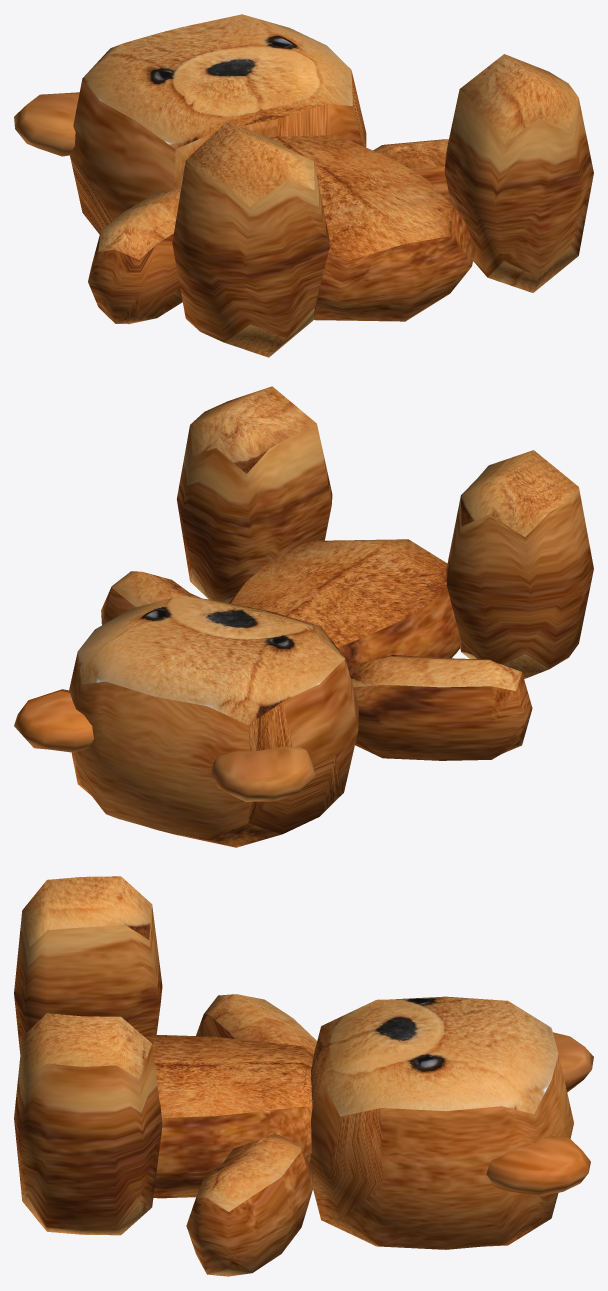
The model's file is teddybear.fbx.
3 views of the same model, one above another, from view 1: azimuth 30°, elevation 25°; view 2: azimuth 150°, elevation 25°; view 3: azimuth 270°, elevation 25° (orthographic). The views are drawn at different scales.
Visible parts, largest first — view 1: pCube21; view 2: pCube21; view 3: pCube21.
Part boxes in pixels (left/top/right/bottom): pCube21: left=14, top=14, right=593, bottom=357; pCube21: left=14, top=386, right=593, bottom=847; pCube21: left=14, top=876, right=593, bottom=1276.
Size of the model in its own units: 1.18 by 0.6682 by 1.32.
